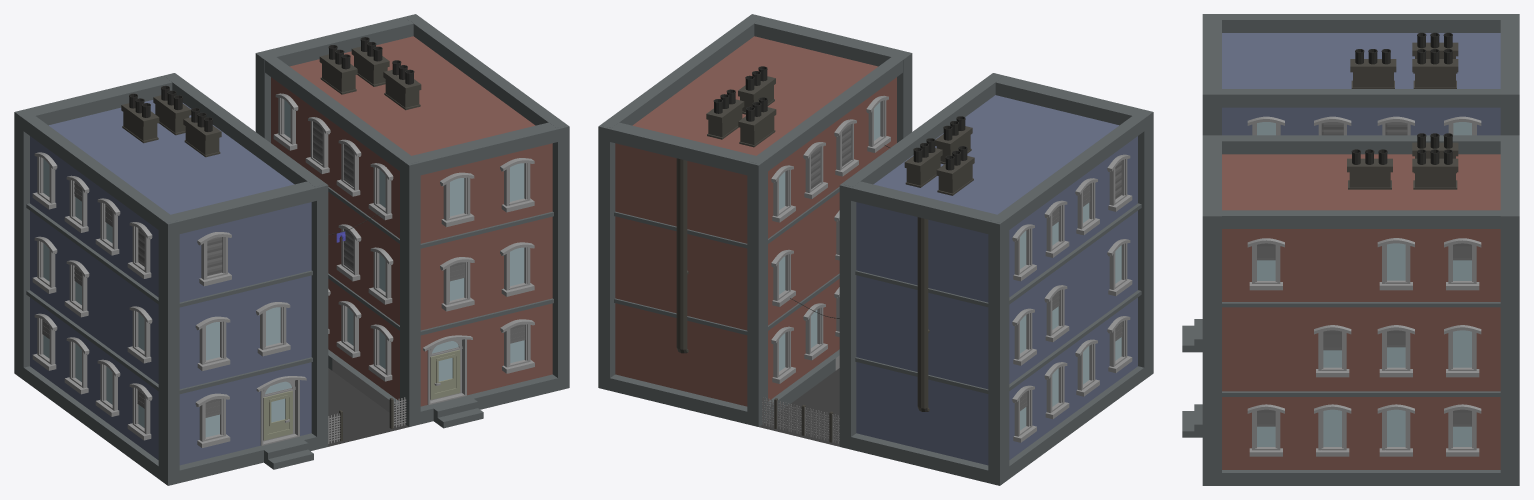
The model's file is Wohnhaus_Tier2.fbx.
The picture shows the model from 3 angles, left to right: view 1: azimuth 30°, elevation 25°; view 2: azimuth 150°, elevation 25°; view 3: azimuth 270°, elevation 25°; orthographic projection. The views are drawn at different scales.
Visible parts, largest first — view 1: Cube.002; view 2: Cube.002; view 3: Cube.002.
Part boxes in pixels (bbox=[...]): Cube.002: bbox=[14, 14, 569, 485]; Cube.002: bbox=[598, 14, 1153, 485]; Cube.002: bbox=[1182, 14, 1519, 485].
Size of the model in its own units: 1514 by 1011 by 1061.
